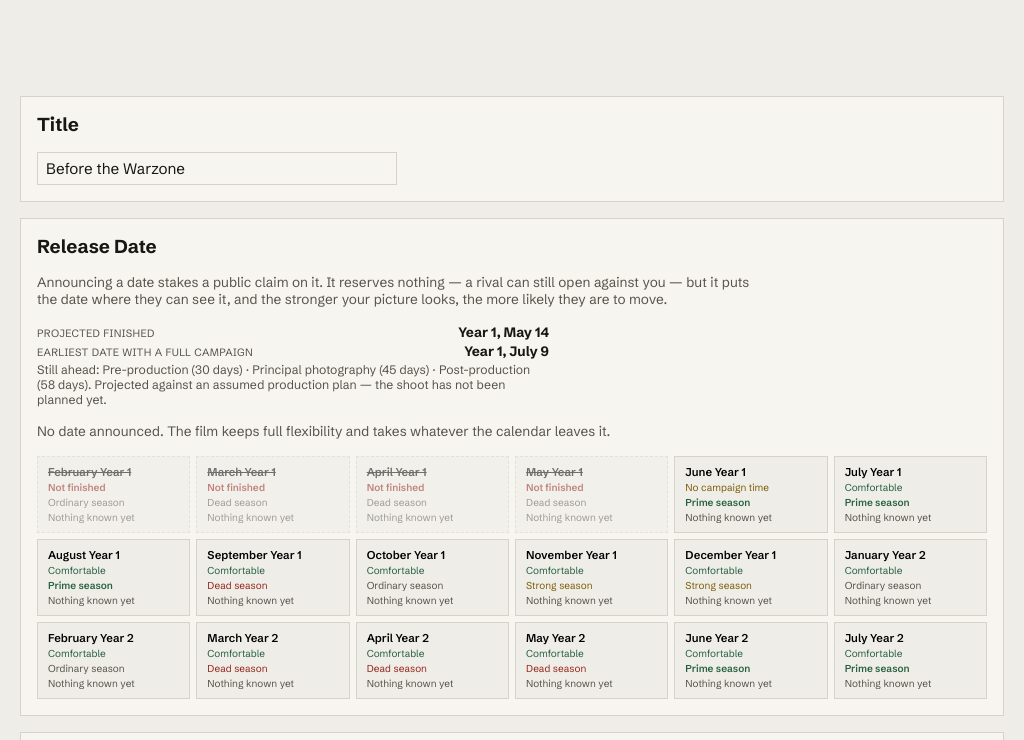
Test case: ProjectOverview - the release-date card surfaces what should decide the date › explains what "nothing known yet" means once such a date is claimed
Click the button with class "release-month-cell" that starts with "February Year 1". click: (114, 494)
box: [37,456,190,533]
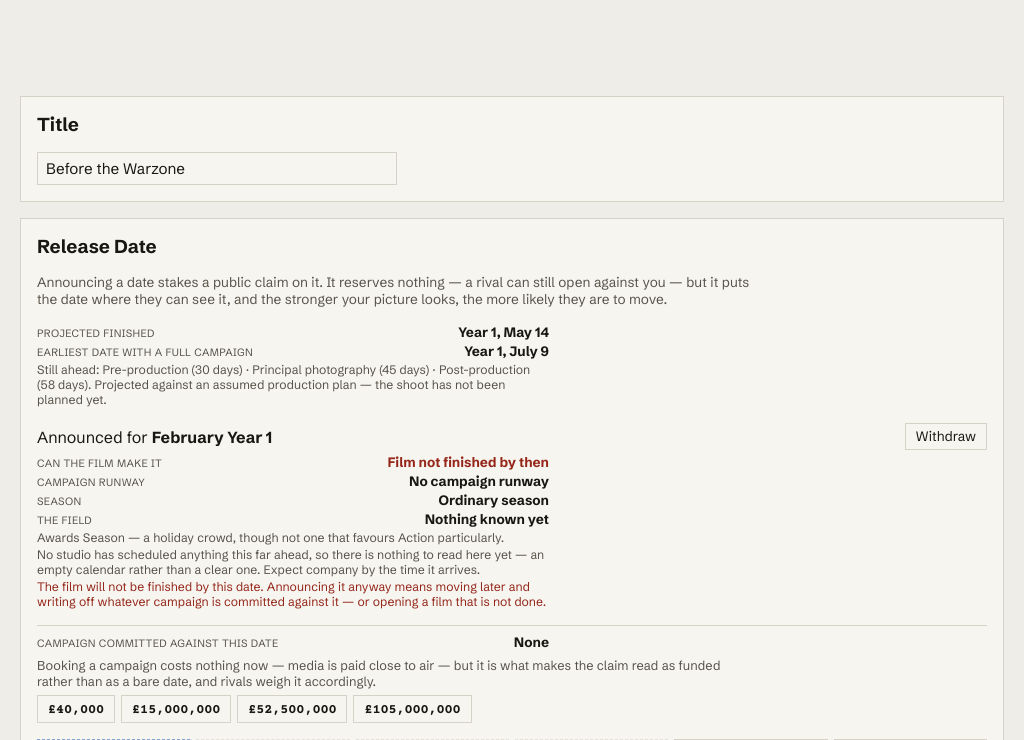
expect the text "No studio has scheduled anything this far ahead" is shown: met, box [37,547,544,577]
